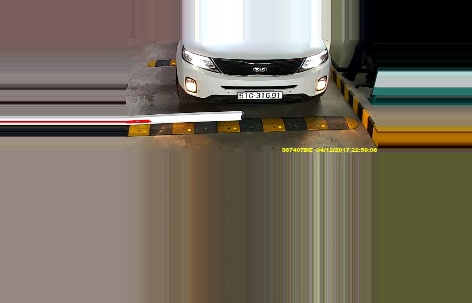plate: (235, 87, 283, 101)
